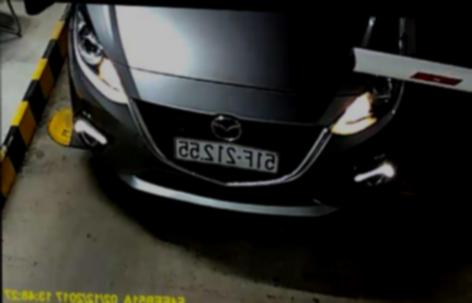License_Plate: (169, 136, 281, 172)
